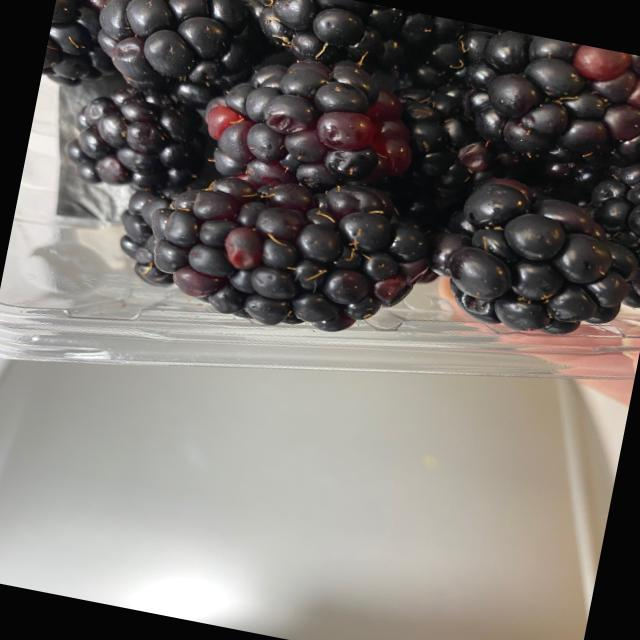blackberries: (8, 0, 640, 366)
